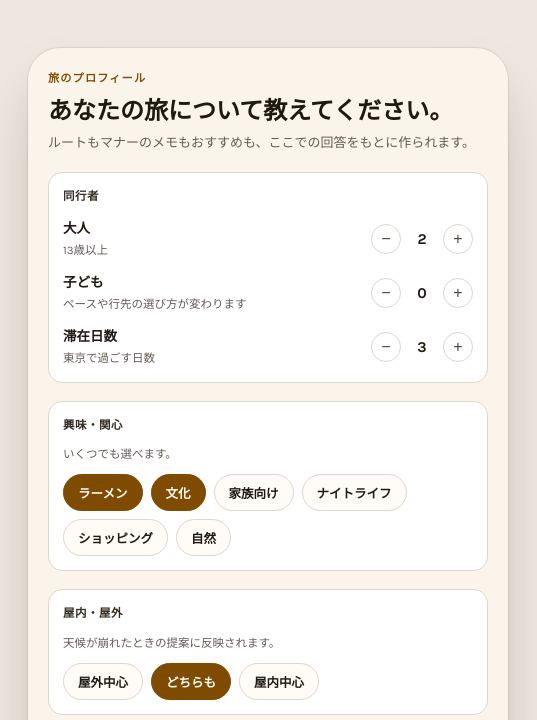
Test: answered — 応答由来のルートと出典 › 出典のあるマナー情報が無いことを明示する（仮のマナー文を出さない）
The image size is (537, 720).
# Issue の例どおり「文化のみ」にし、マナーの欠損を記録する問いを送っていないことも固定する
Click the button "ラーメン" at (103, 493), box left=63, top=474, right=142, bottom=511
(page scrolled)
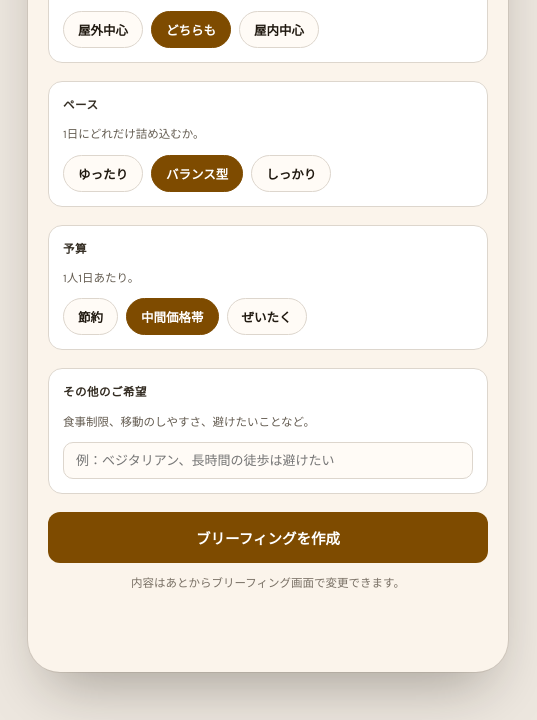
Click the button "ブリーフィングを作成" at (268, 538), box left=48, top=512, right=488, bottom=563
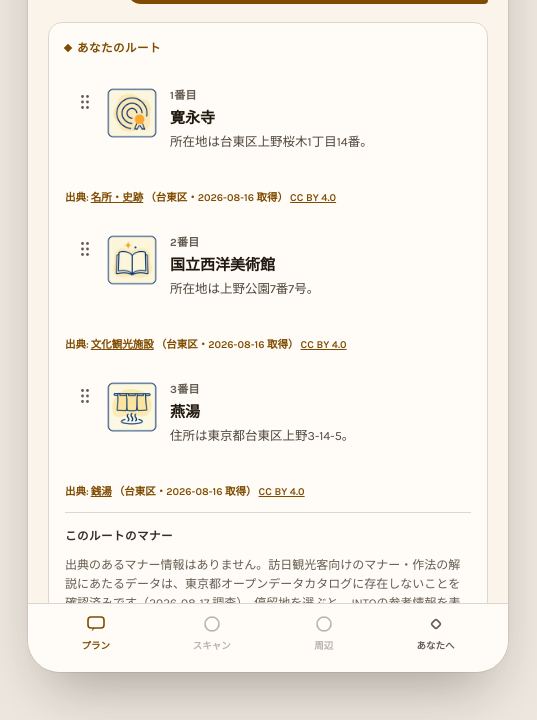
expect the text "寛永寺" is shown: met, box left=170, top=108, right=215, bottom=127
expect the text "出典のあるマナー情報はありません" is shown: met, box left=65, top=558, right=460, bottom=603
